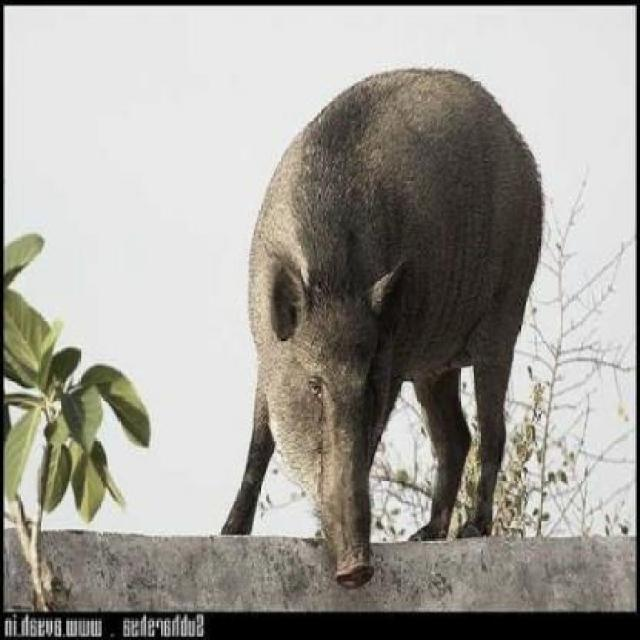Boar: (252, 24, 602, 638)
